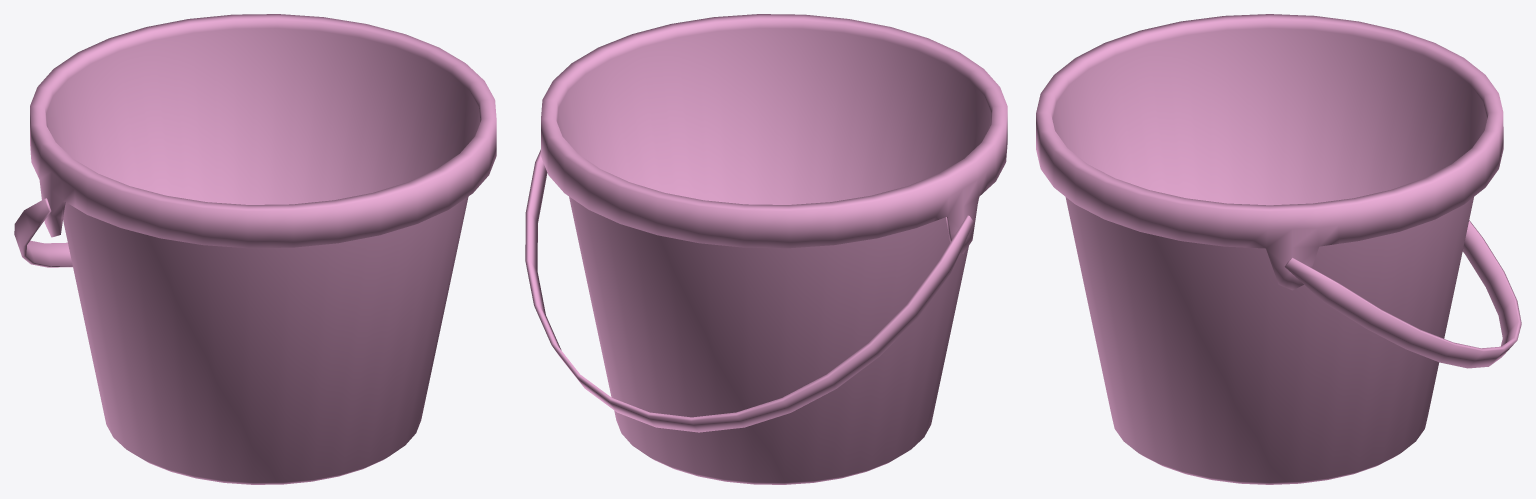
File: intro_baketsu.fbx
3 renders of one model, left to right at view 1: azimuth 30°, elevation 25°; view 2: azimuth 150°, elevation 25°; view 3: azimuth 270°, elevation 25°, orthographic.
Visible parts, largest first — view 1: バケツ; view 2: バケツ; view 3: バケツ.
Part boxes in pixels (x1=…): バケツ: x1=14, y1=14, x2=496, y2=484; バケツ: x1=525, y1=14, x2=1007, y2=484; バケツ: x1=1036, y1=14, x2=1521, y2=484.
Bounding box in the file's own units: 323 × 230 × 329.
